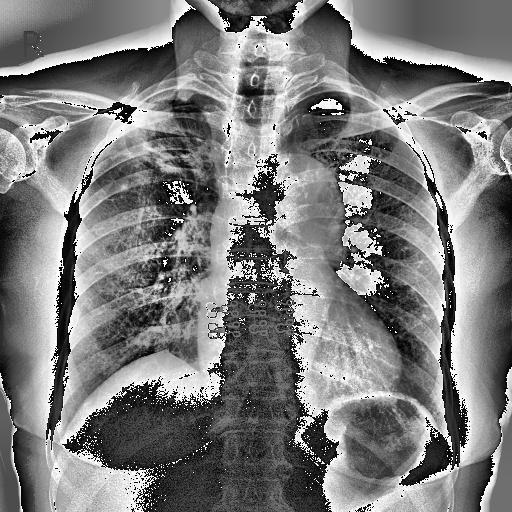0- Aortic enlargement: (250, 146, 346, 256), (257, 152, 341, 256), (262, 154, 344, 236)
11- Pleural thickening: (123, 84, 199, 118), (122, 87, 188, 119), (366, 94, 406, 134), (133, 341, 178, 363)
13- Pulmonary fibrosis: (103, 100, 201, 200), (110, 108, 212, 192), (127, 113, 199, 180)
6- Infiltration: (103, 100, 201, 200)
